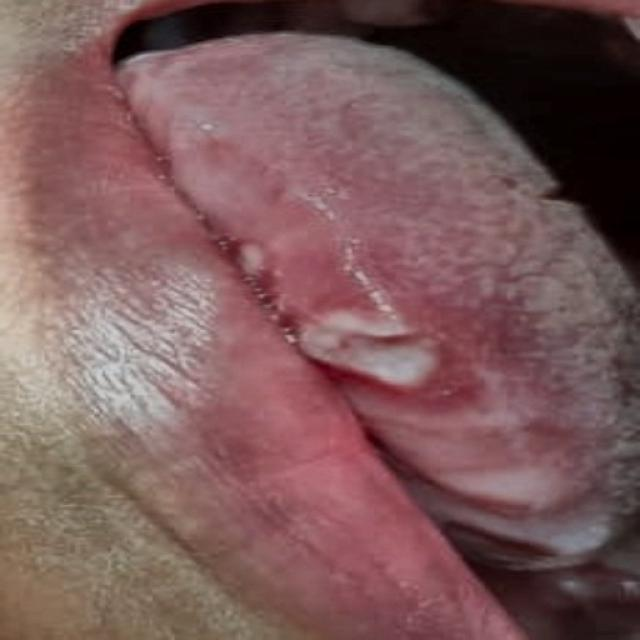leukoplakia-detection: (230, 199, 473, 428), (407, 452, 636, 578)
processing_area: (111, 39, 639, 598)
